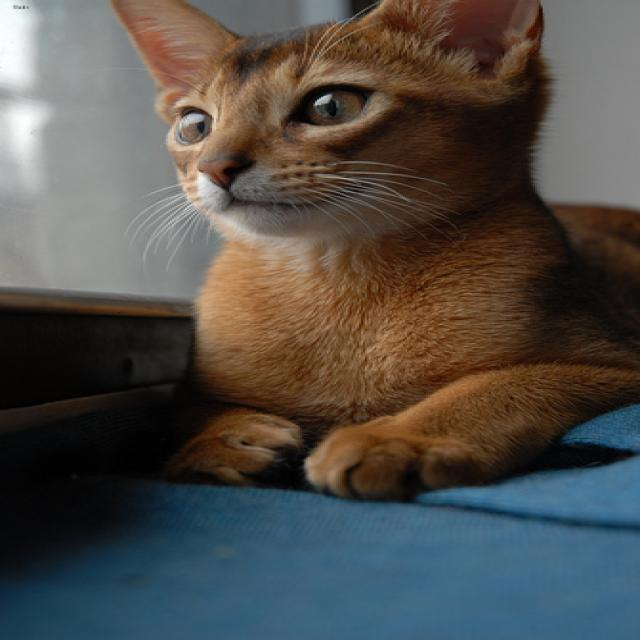Abyssinian: (109, 0, 562, 255)
